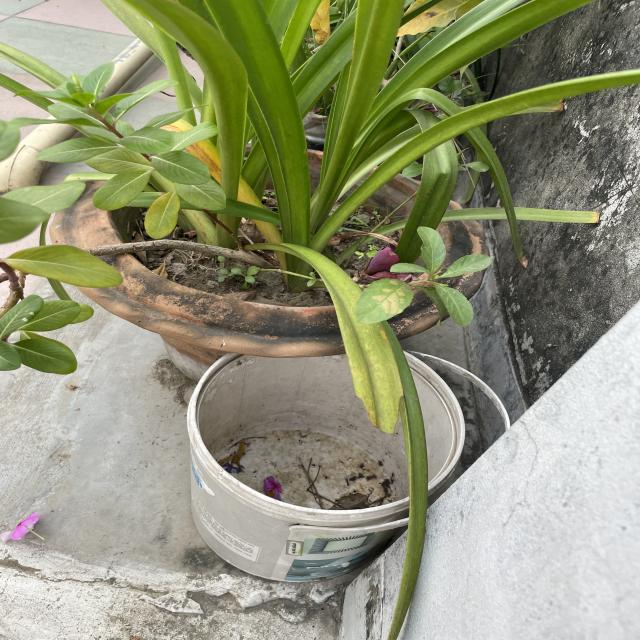Breeding Place: (64, 140, 448, 378), (190, 348, 484, 581)
